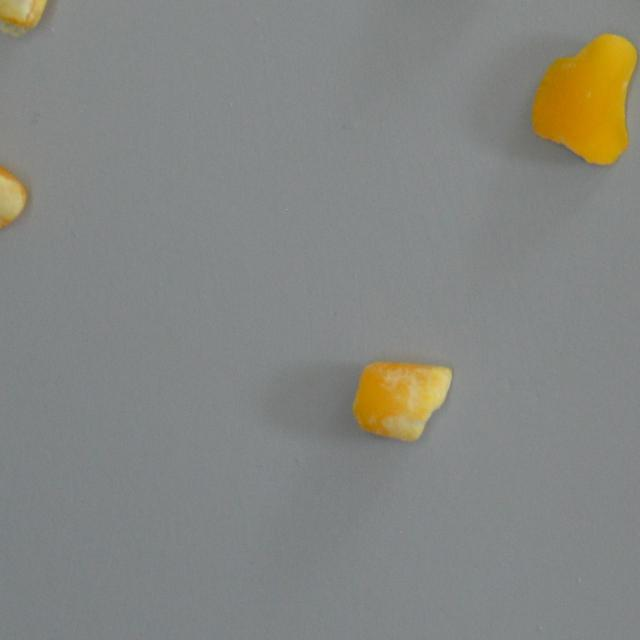dañado: (0, 0, 57, 38)
no_canjicado: (525, 34, 639, 167)
pelicula: (341, 350, 454, 448)
punto_negro: (0, 149, 28, 237)
